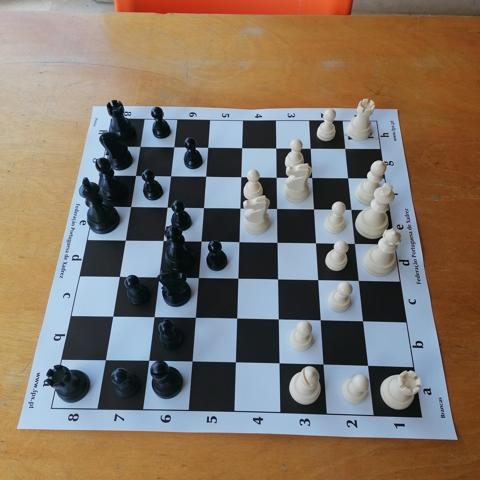xcorner: (271, 272, 287, 288), (116, 232, 132, 248), (270, 235, 286, 251), (121, 198, 137, 214), (232, 200, 248, 216), (344, 202, 360, 218), (233, 139, 249, 155), (185, 355, 201, 370), (229, 356, 245, 371), (362, 359, 378, 374), (104, 309, 120, 324), (146, 310, 162, 325), (188, 311, 204, 326), (230, 312, 246, 327), (272, 313, 288, 328), (357, 315, 373, 330), (231, 271, 246, 287), (312, 273, 327, 289), (232, 234, 247, 250), (309, 236, 325, 251), (348, 237, 364, 252), (158, 199, 174, 214), (195, 200, 211, 215), (162, 167, 177, 183), (197, 168, 213, 183), (269, 169, 284, 185), (341, 170, 356, 186), (130, 138, 146, 153), (165, 138, 180, 154), (303, 140, 318, 156), (337, 141, 353, 156), (98, 353, 113, 368), (142, 354, 157, 369), (274, 357, 289, 372), (318, 358, 333, 373), (315, 314, 330, 329), (111, 269, 126, 284), (151, 270, 166, 285), (191, 271, 206, 286), (353, 274, 368, 289), (155, 233, 170, 248), (193, 234, 208, 249), (270, 201, 285, 216), (307, 202, 322, 217), (126, 167, 141, 182), (233, 169, 248, 184), (305, 170, 320, 185), (199, 139, 214, 154), (268, 140, 283, 155)
